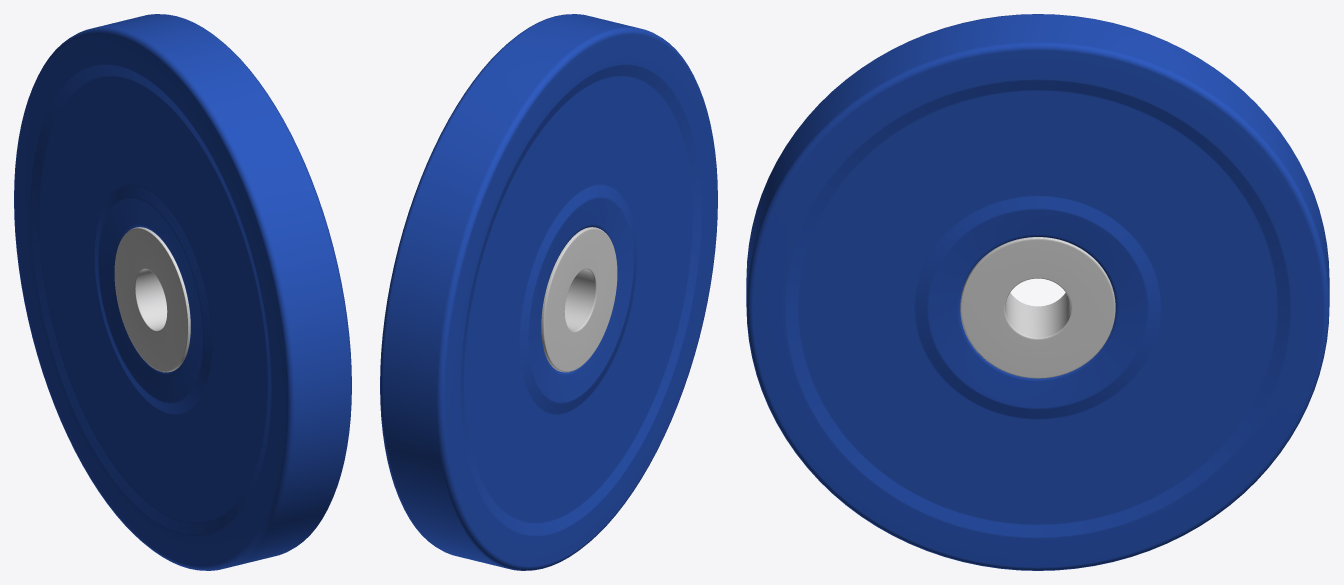
File: plate_bumper_20kg.glb
The picture shows the model from 3 angles, left to right: view 1: azimuth 30°, elevation 25°; view 2: azimuth 150°, elevation 25°; view 3: azimuth 270°, elevation 25°; orthographic projection. The views are drawn at different scales.
Visible parts, largest first — view 1: plate_bumper_20kg__bumper_blue, plate_bumper_20kg__steel; view 2: plate_bumper_20kg__bumper_blue, plate_bumper_20kg__steel; view 3: plate_bumper_20kg__bumper_blue, plate_bumper_20kg__steel.
Part boxes in pixels (bbox=[...]): plate_bumper_20kg__bumper_blue: bbox=[14, 14, 351, 570]; plate_bumper_20kg__steel: bbox=[114, 227, 190, 372]; plate_bumper_20kg__bumper_blue: bbox=[380, 14, 717, 570]; plate_bumper_20kg__steel: bbox=[541, 227, 617, 372]; plate_bumper_20kg__bumper_blue: bbox=[746, 14, 1329, 570]; plate_bumper_20kg__steel: bbox=[960, 237, 1115, 378].
Size of the model in its own units: 0.06 by 0.45 by 0.45.
